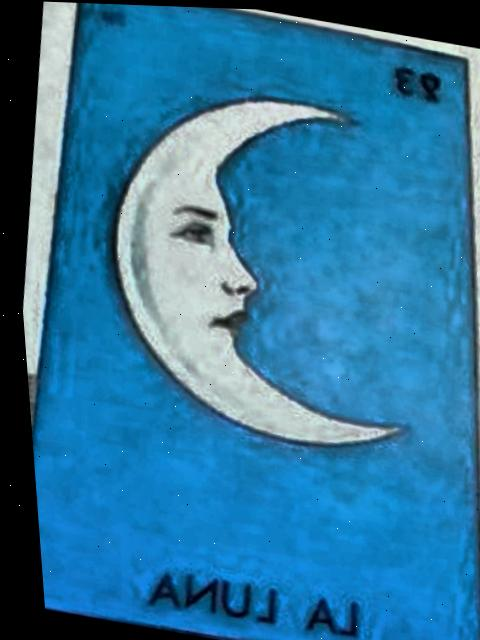La Luna: (25, 2, 472, 640)
